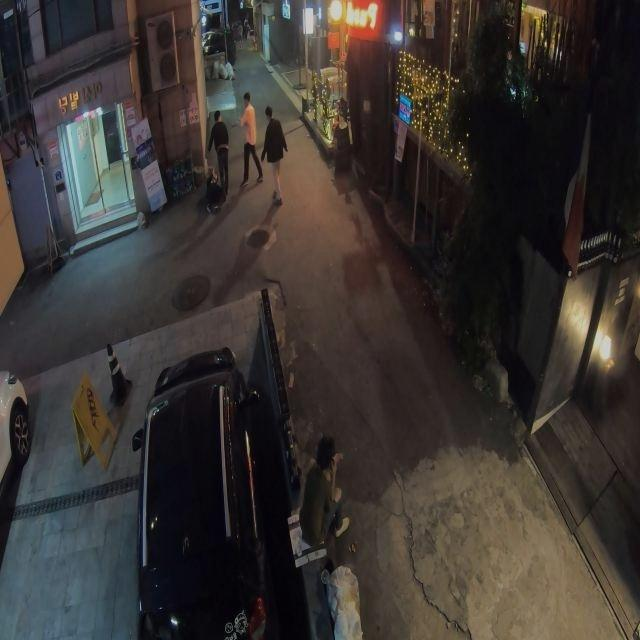non-fight: (301, 440, 345, 552), (232, 89, 267, 186), (259, 101, 290, 207)
